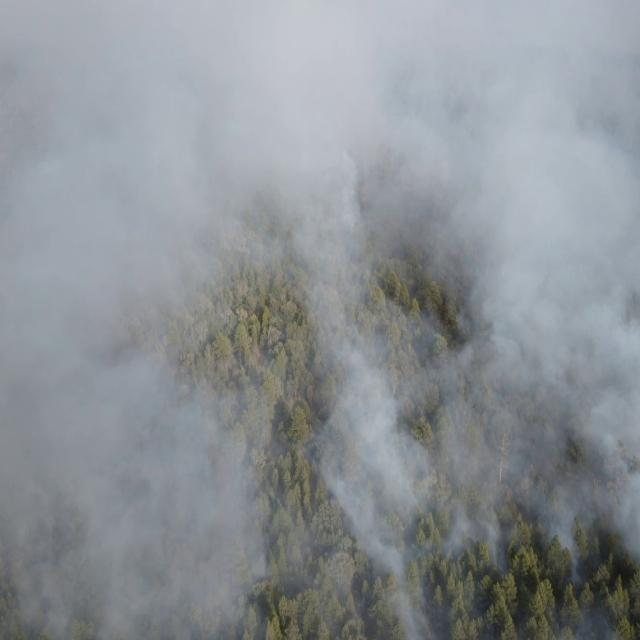smoke: (0, 0, 640, 258), (435, 255, 640, 565), (0, 257, 129, 640), (130, 257, 252, 640), (292, 252, 434, 568), (254, 397, 321, 589), (316, 562, 440, 640), (575, 607, 613, 640)
